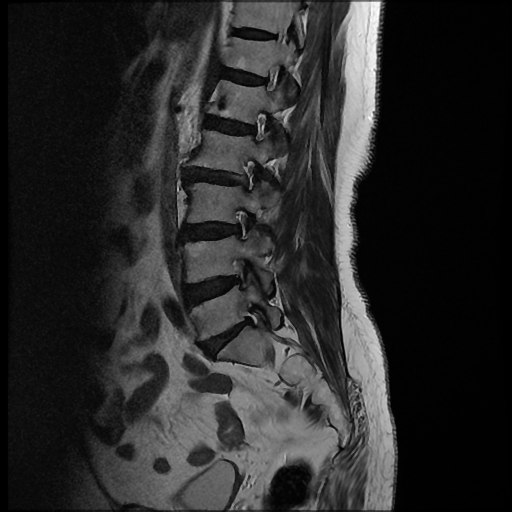RFS0: (241, 104, 276, 147)
RFS1: (226, 198, 258, 249), (232, 149, 264, 198)
